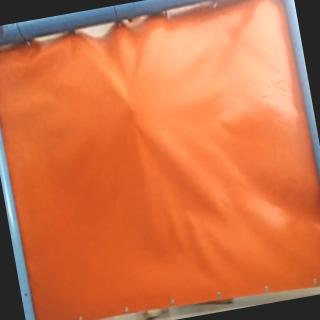Hit-hRxx: (125, 98, 144, 118)
